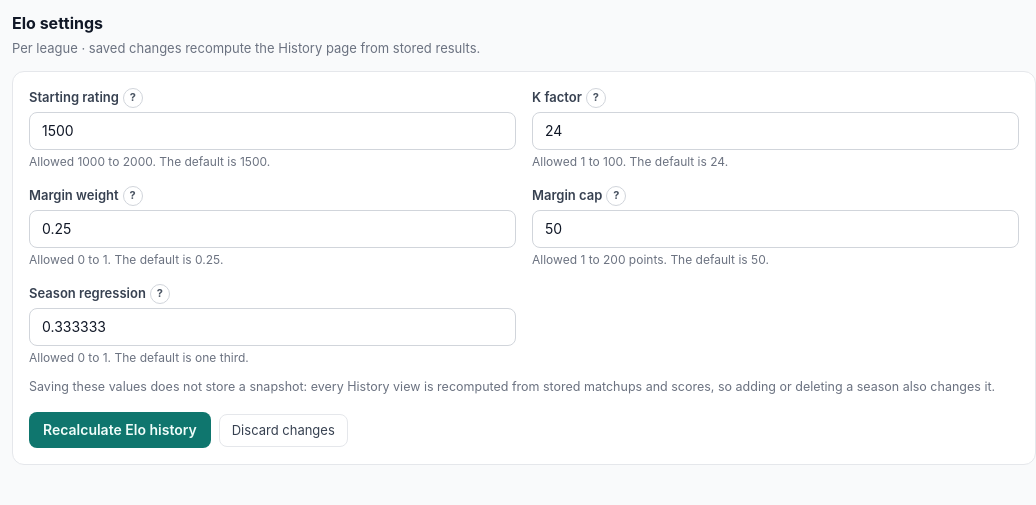
EloSettingsSection › validates ranges before sending a request
Replace the text in the field labelled "Starting rating" with "999" at (272, 130), box [29,112,516,150]
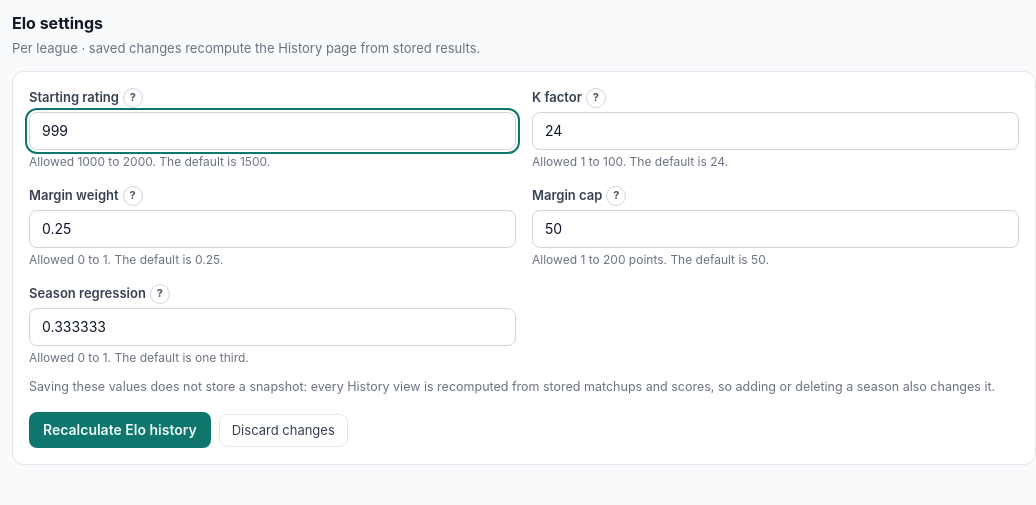
Click the button "Recalculate Elo history" at (120, 430), box [29,412,211,448]
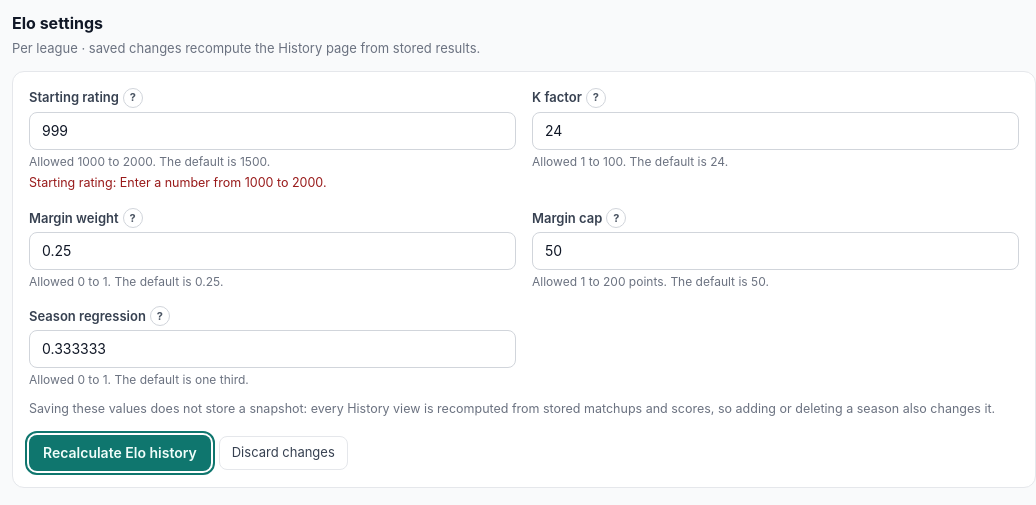
Expected: the message reads "Starting rating: Enter a number from 1000 to 2000.", [29,174,326,190]
